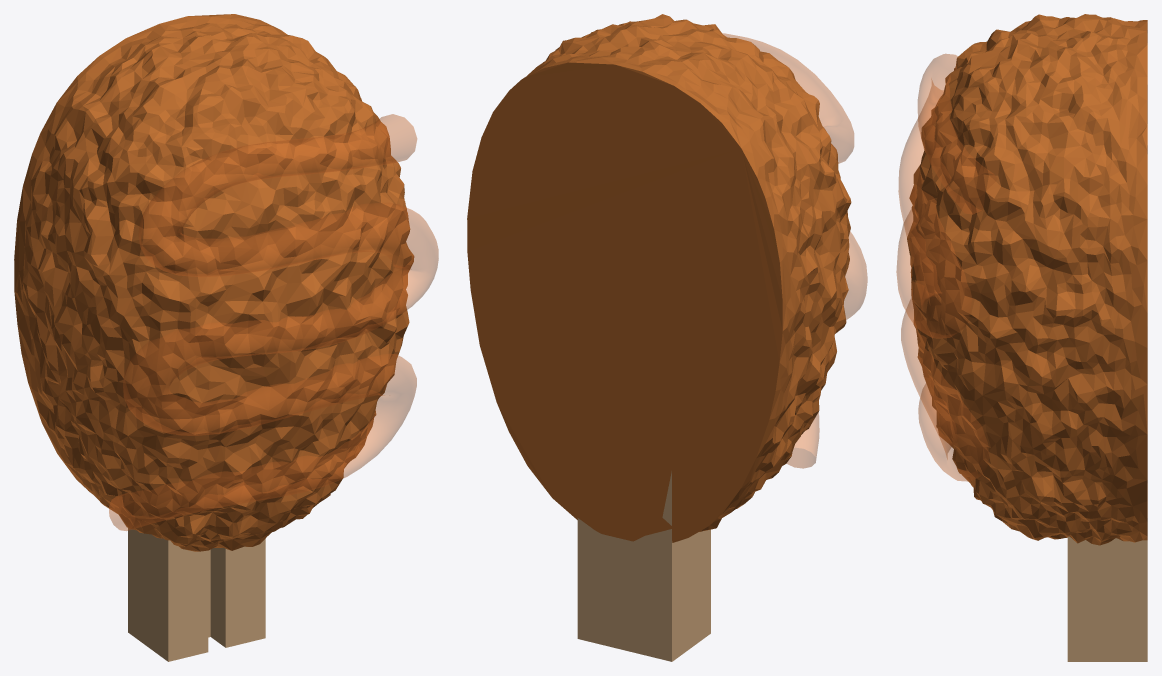
The model's file is hotdog.glb.
3 views of the same model, side by side, from view 1: azimuth 30°, elevation 25°; view 2: azimuth 150°, elevation 25°; view 3: azimuth 270°, elevation 25° (orthographic). The views are drawn at different scales.
Visible parts, largest first — view 1: Cube.001, Cube.002, Cube.714; view 2: Cube.001, Cube.714, Cube.002; view 3: Cube.001, Cube.002, Cube.714.
Boxes of the visible parts, x1,y1,x2,y2 form: Cube.001: (14, 14, 414, 551); Cube.002: (109, 114, 438, 530); Cube.714: (109, 114, 416, 661); Cube.001: (467, 14, 851, 542); Cube.714: (577, 448, 815, 661); Cube.002: (723, 33, 867, 467); Cube.001: (907, 14, 1147, 545); Cube.002: (896, 54, 995, 481); Cube.714: (960, 173, 1147, 661).
Bounding box in the file's own units: 9.67 × 16.67 × 6.28.
